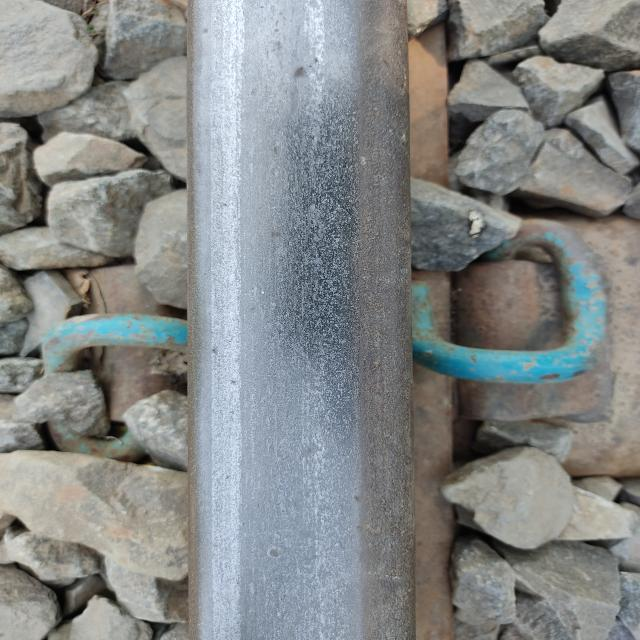No Fault: (200, 24, 397, 618)
